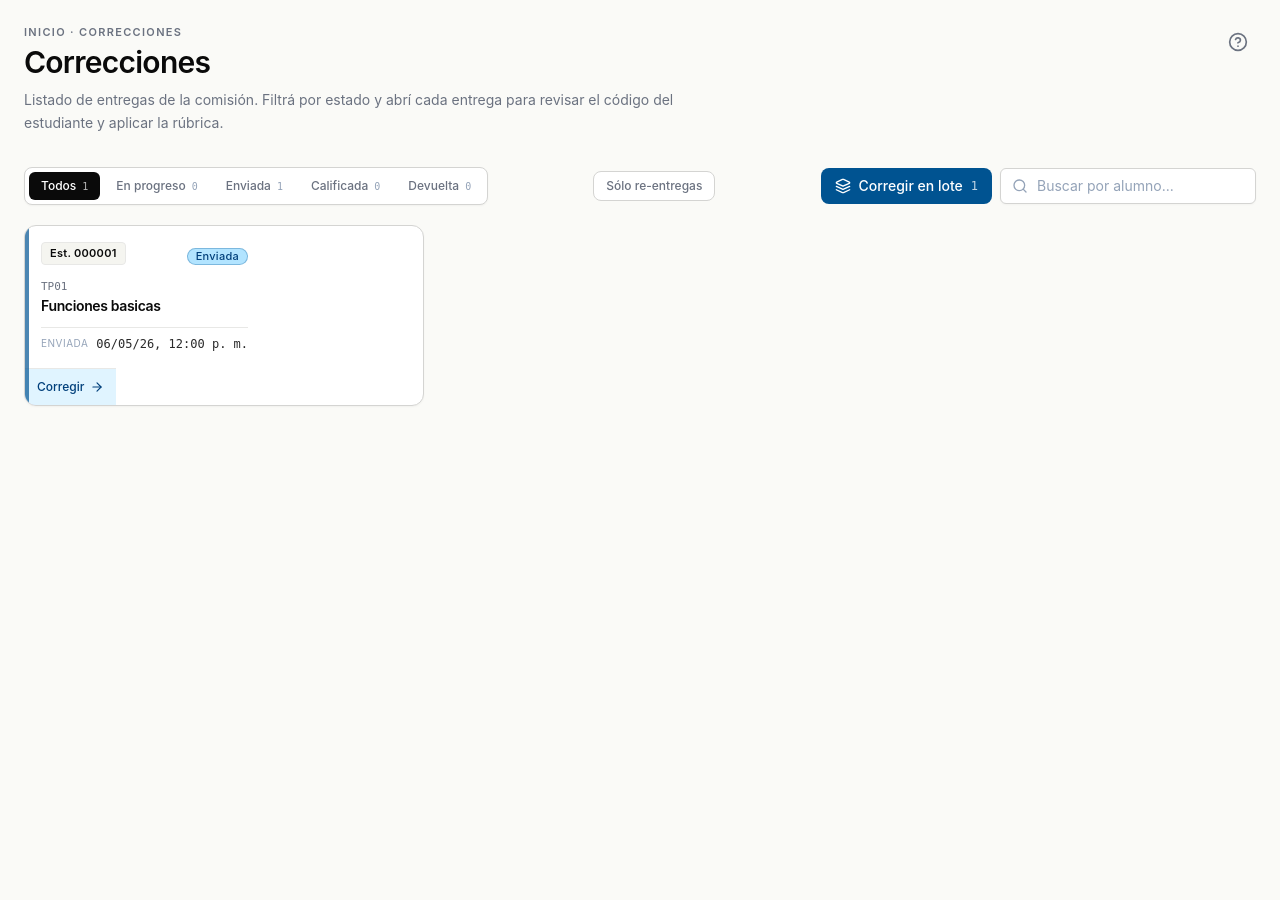
Test: CorreccionesView — codigo entregado vs reconstruido › el artefacto gana sobre un snapshot distinto de los eventos
Click the button with test id "entrega-drill-btn". click: (83, 254)
box: [24,224,424,406]
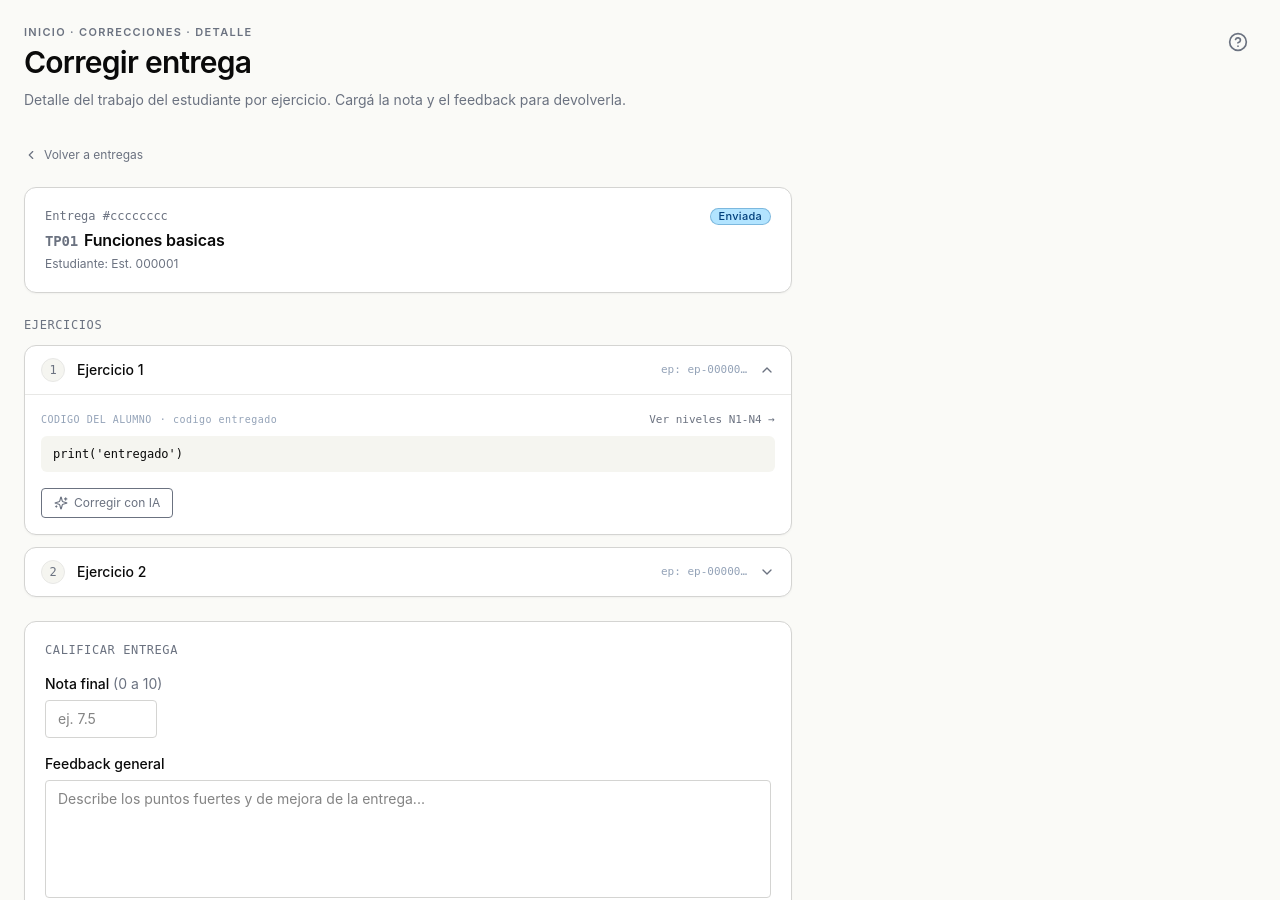
Check: the text "print('entregado')" is shown, box [41,436,775,472]
